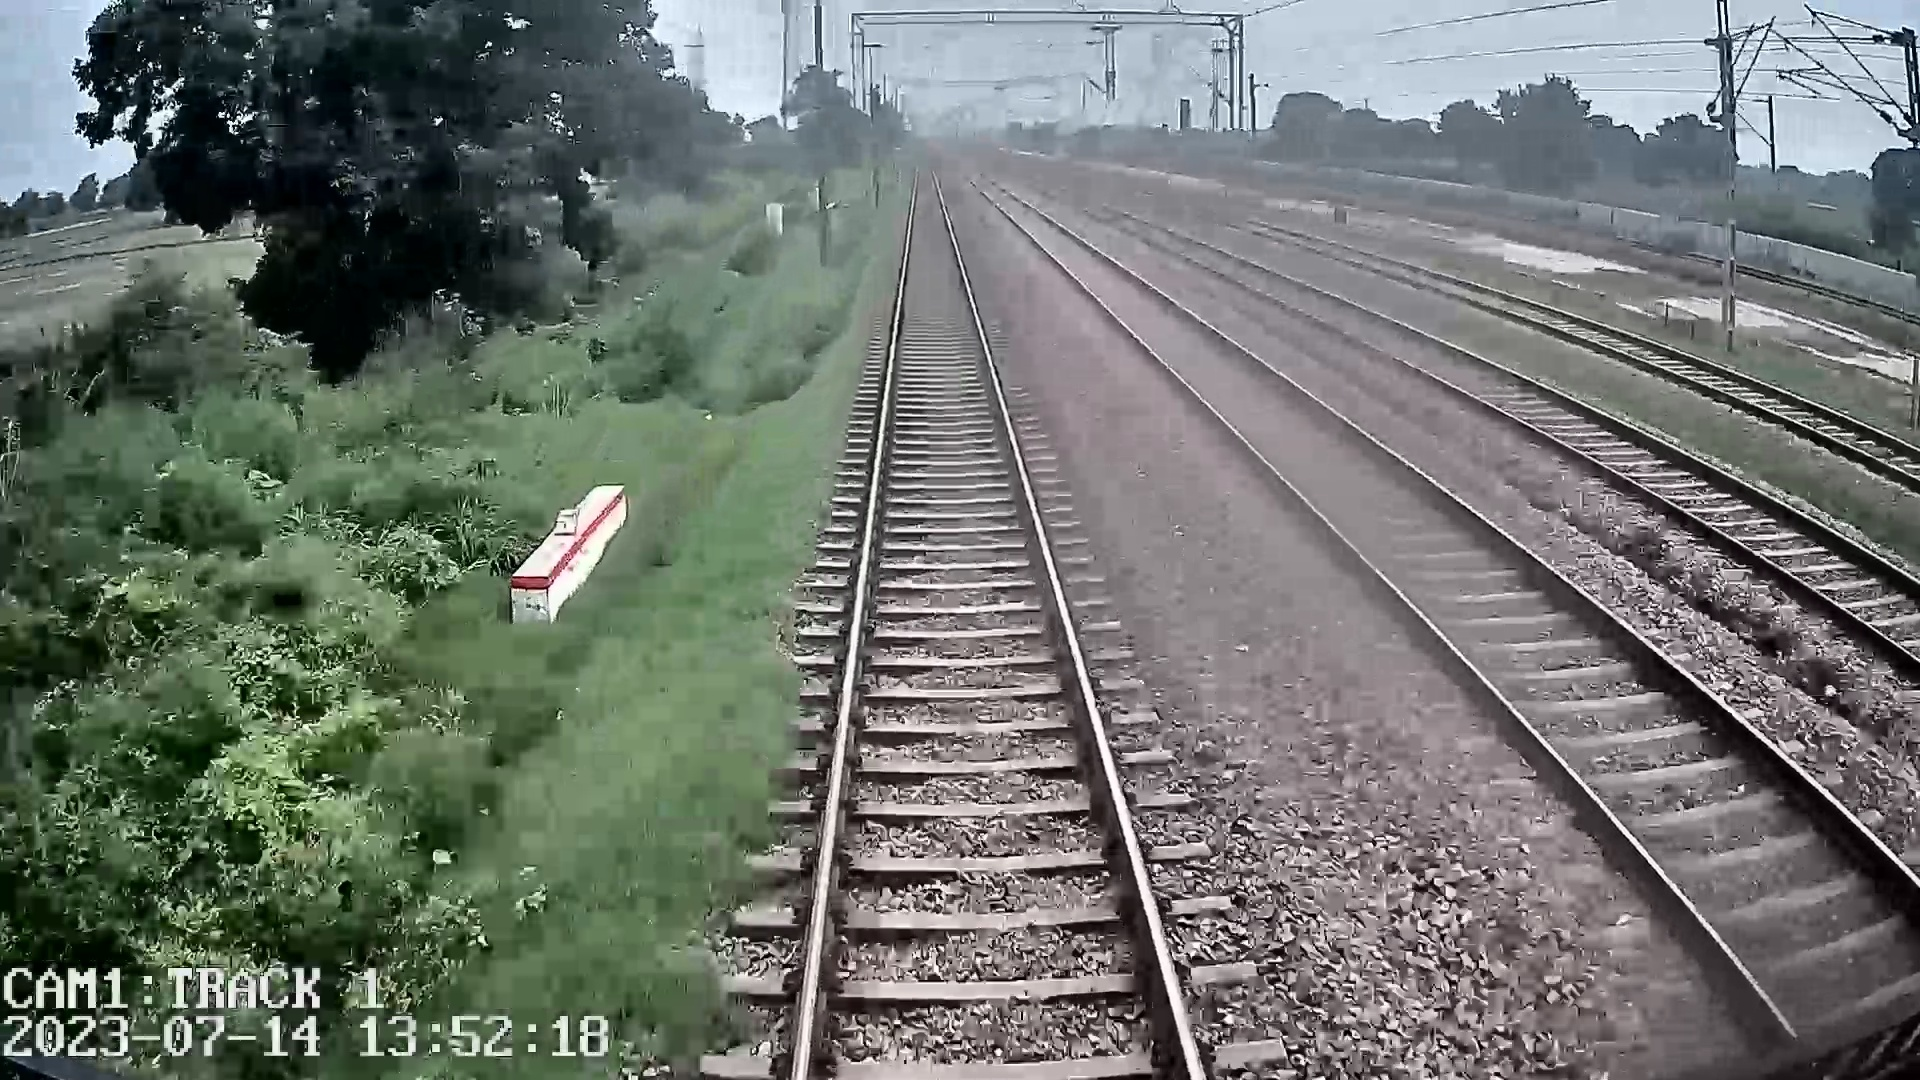track1: (800, 173, 1193, 1062)
track2: (977, 183, 1919, 998)
track3: (1160, 239, 1919, 641)
track4: (1320, 247, 1917, 481)
